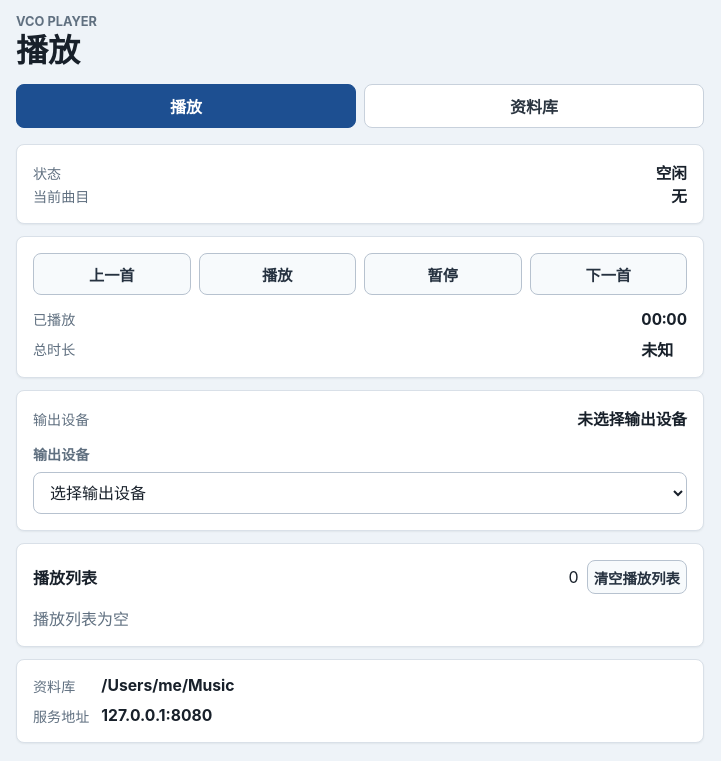
Test case: Operator Remote initial status › lists and selects Playback Output Devices from the Remote API
Check: the text named "当前输出设备" reads "未选择输出设备", box [577,410,687,429]
Select "USB DAC" in the dropdown labelled "输出设备". click: (360, 493)
box: [33,472,687,514]
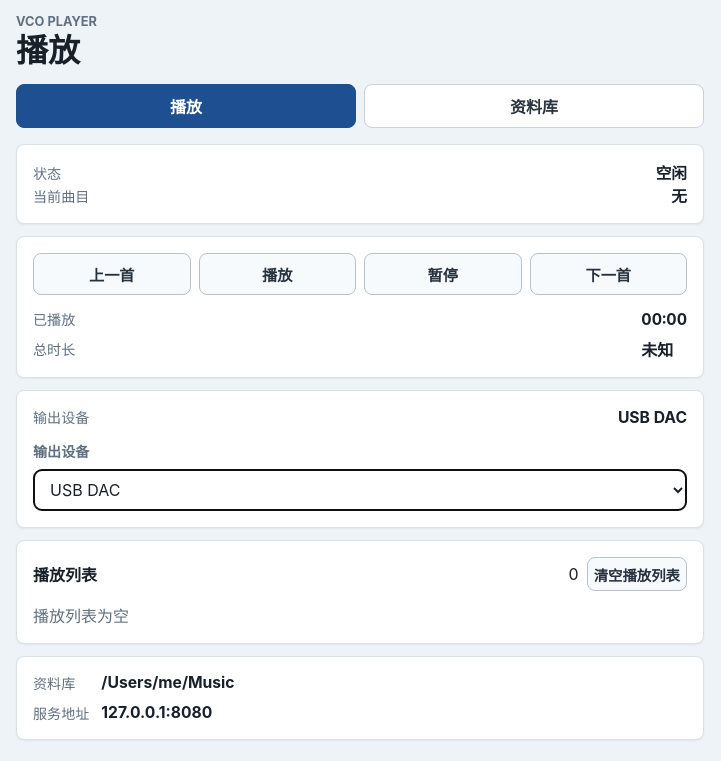
Check: the text named "当前输出设备" reads "USB DAC", box [618,408,687,427]
